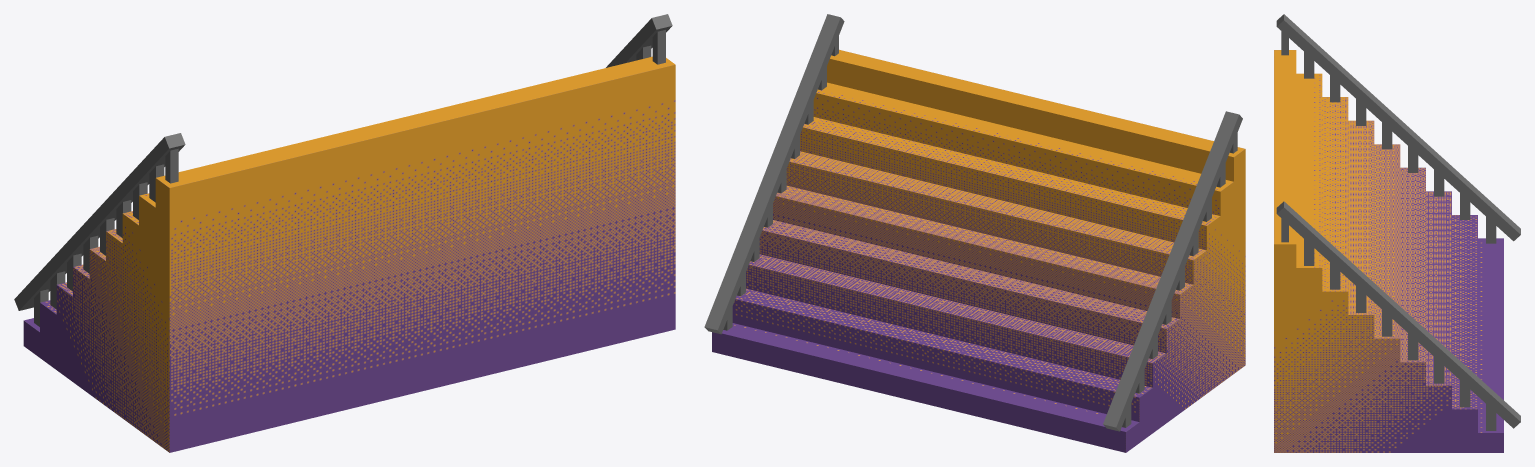
Rendered from Gradas 1.fbx.
3 renders of one model, left to right at view 1: azimuth 30°, elevation 25°; view 2: azimuth 150°, elevation 25°; view 3: azimuth 270°, elevation 25°, orthographic. The views are drawn at different scales.
Visible parts, largest first — view 1: Gradas; view 2: Gradas; view 3: Gradas.
Boxes of the visible parts, x1,y1,x2,y2 form: Gradas: (14,14,675,452); Gradas: (704,14,1245,452); Gradas: (1274,14,1520,452).
Size of the model in its own units: 2000 by 1175 by 1073.
